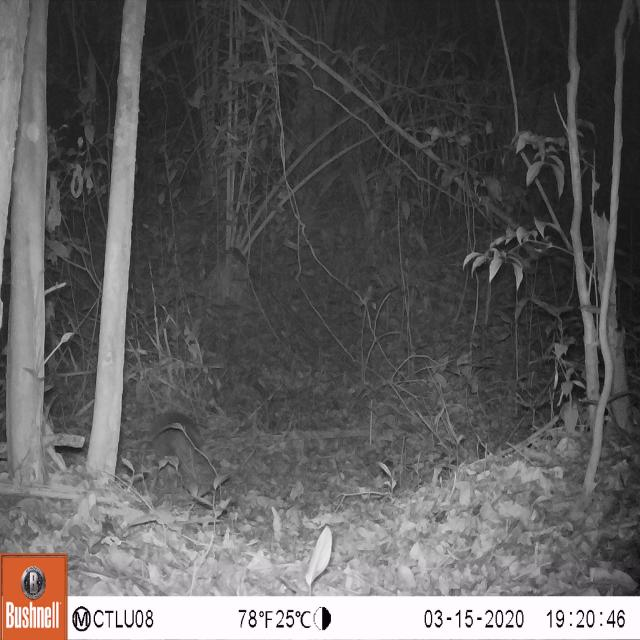Armadillo: (144, 399, 215, 487)
